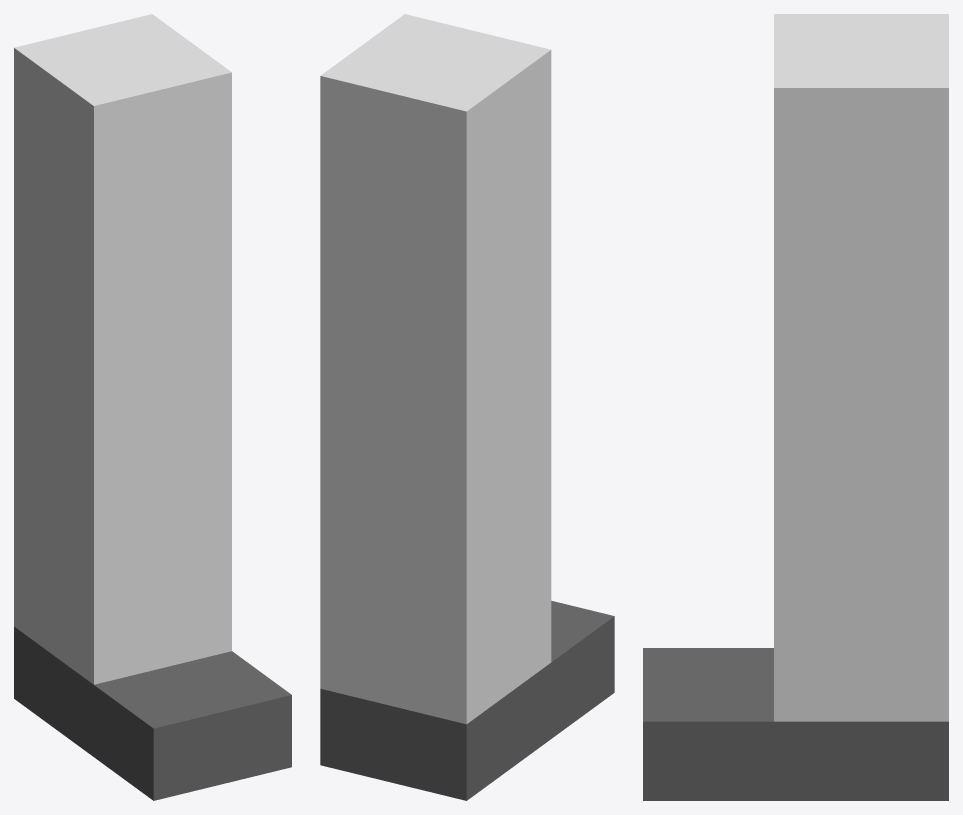
Rendered from stig lower leg.obj.
3 renders of one model, left to right at view 1: azimuth 30°, elevation 25°; view 2: azimuth 150°, elevation 25°; view 3: azimuth 270°, elevation 25°, orthographic. The views are drawn at different scales.
Bounding box in the file's own units: 4 × 18 × 7.
Materials: 1 (1 with a texture image).
